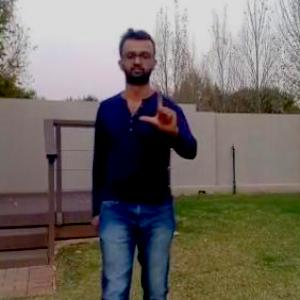land_hand: (139, 80, 181, 137)
